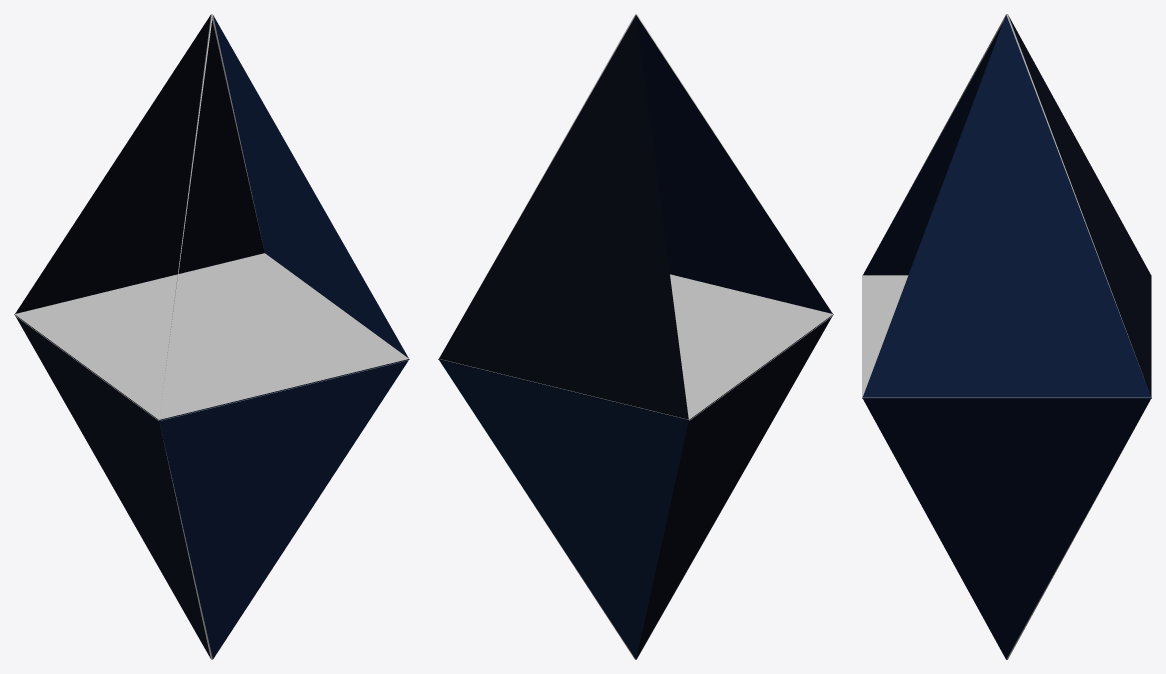
Rendered from backGroundShape.obj.
3 views of the same model, side by side, from view 1: azimuth 30°, elevation 25°; view 2: azimuth 150°, elevation 25°; view 3: azimuth 270°, elevation 25° (orthographic).
Visible parts, largest first — view 1: 立方体.001; view 2: 立方体.001; view 3: 立方体.001.
Boxes of the visible parts, left/top/right/bottom form: 立方体.001: left=14, top=14, right=409, bottom=659; 立方体.001: left=438, top=14, right=833, bottom=659; 立方体.001: left=862, top=14, right=1151, bottom=659.
Size of the model in its own units: 2 by 4.92 by 2.
